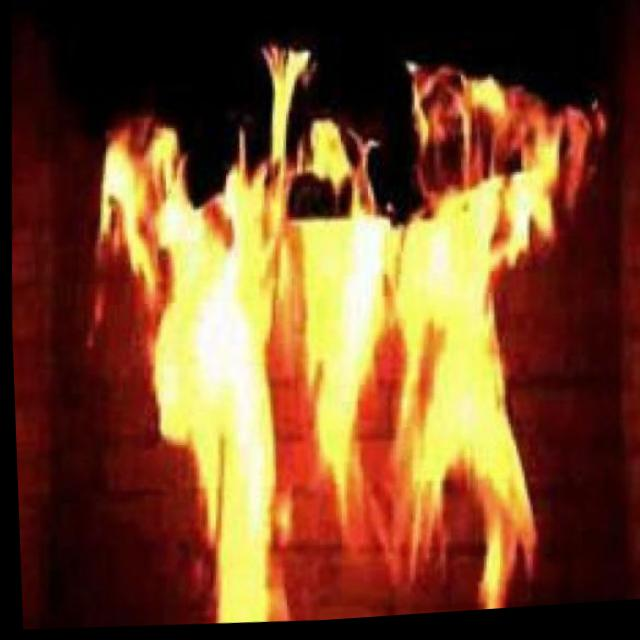Fire: (94, 95, 535, 618)
